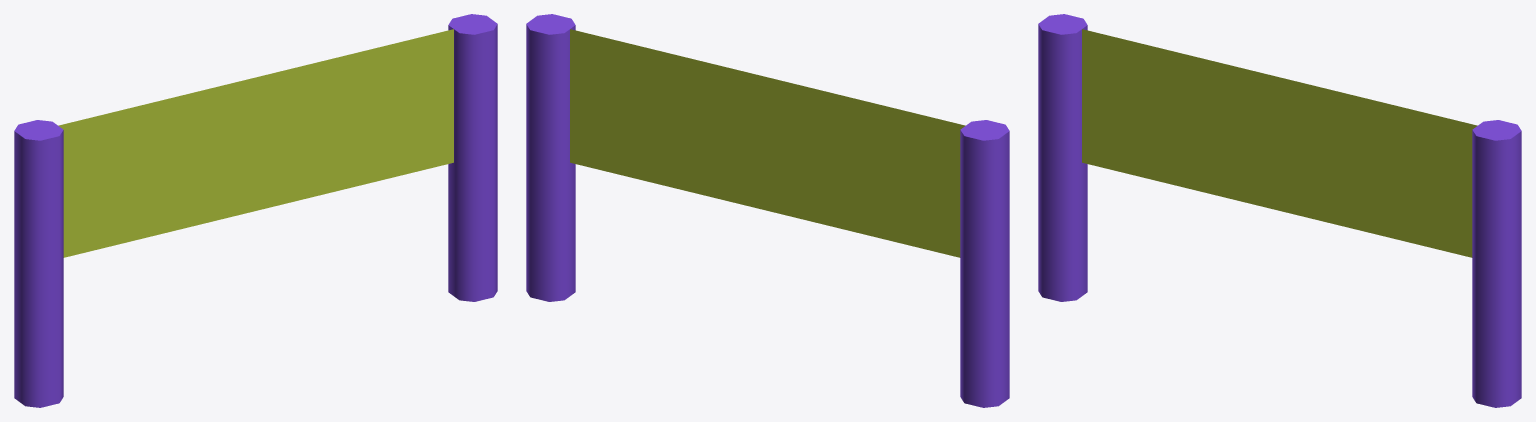
The model's file is banner.dae.
The picture shows the model from 3 angles, left to right: view 1: azimuth 30°, elevation 25°; view 2: azimuth 150°, elevation 25°; view 3: azimuth 330°, elevation 25°; orthographic projection.
Parts seen in each view (by area): view 1: banner; view 2: banner; view 3: banner.
Part boxes in pixels (x1,y1,x2,y2): banner: (14,14,497,407); banner: (526,14,1009,407); banner: (1038,14,1521,407).
Size of the model in its own units: 0.925 by 0.075 by 0.5.
